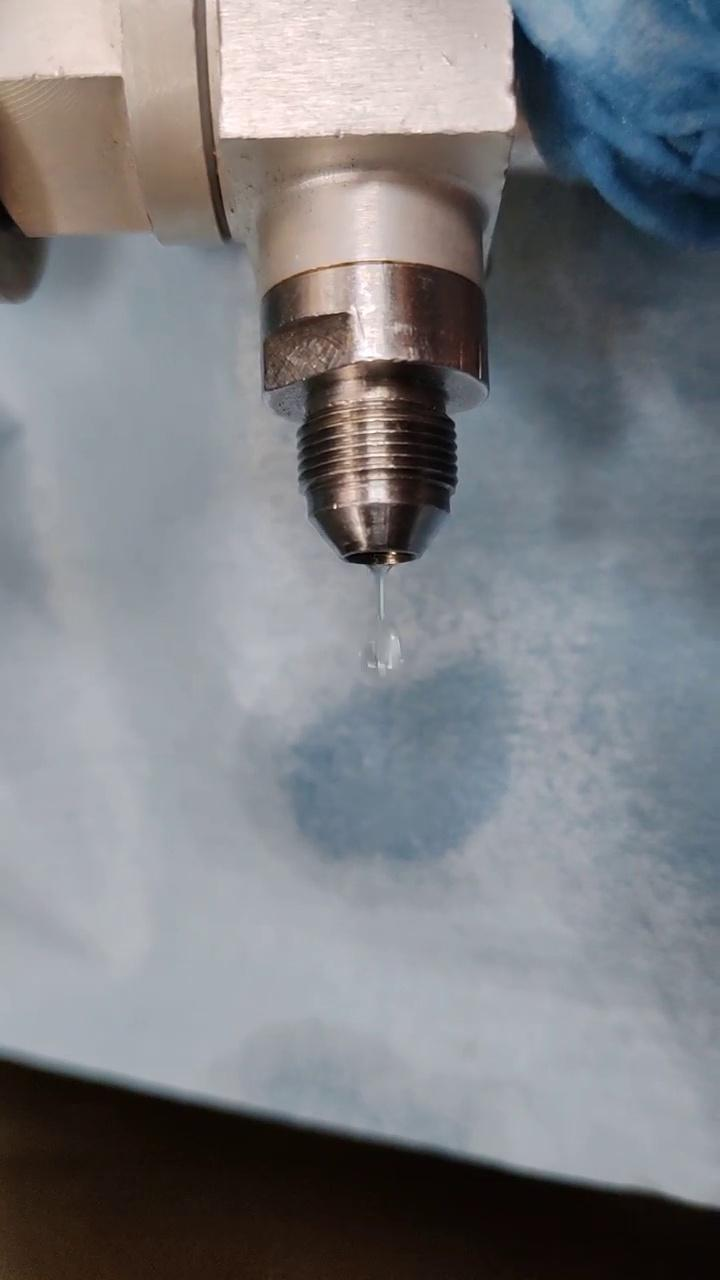water drop: (360, 556, 400, 678)
